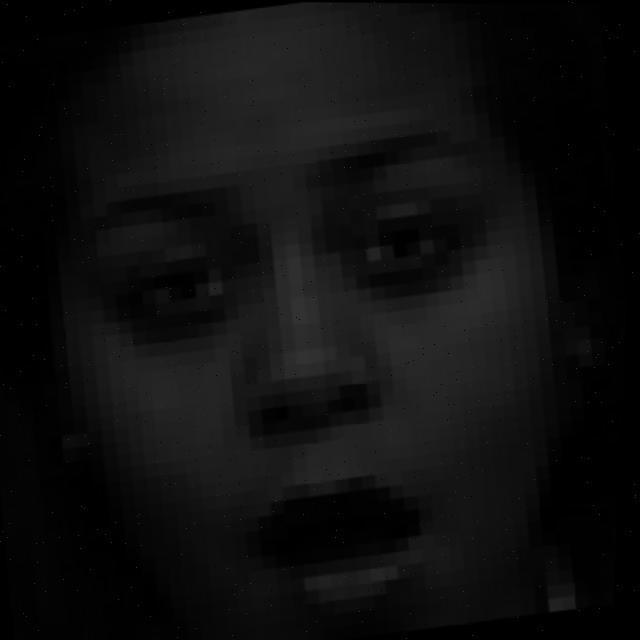Surprised: (62, 146, 578, 612)
